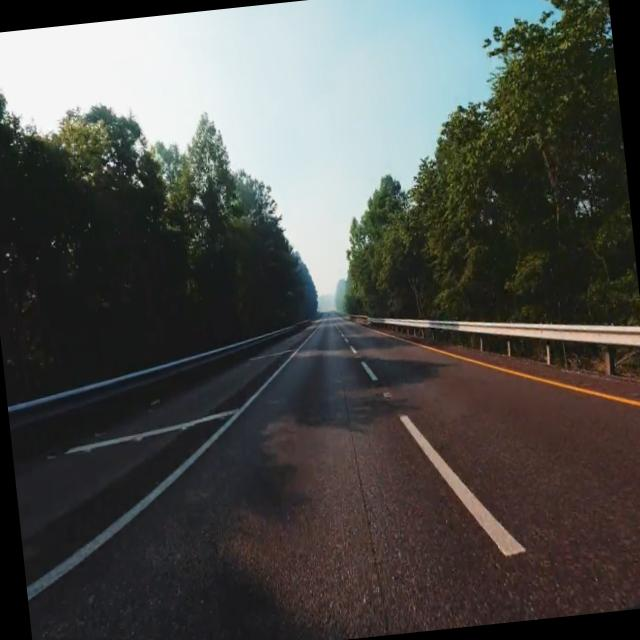asphalt: (13, 316, 640, 640)
